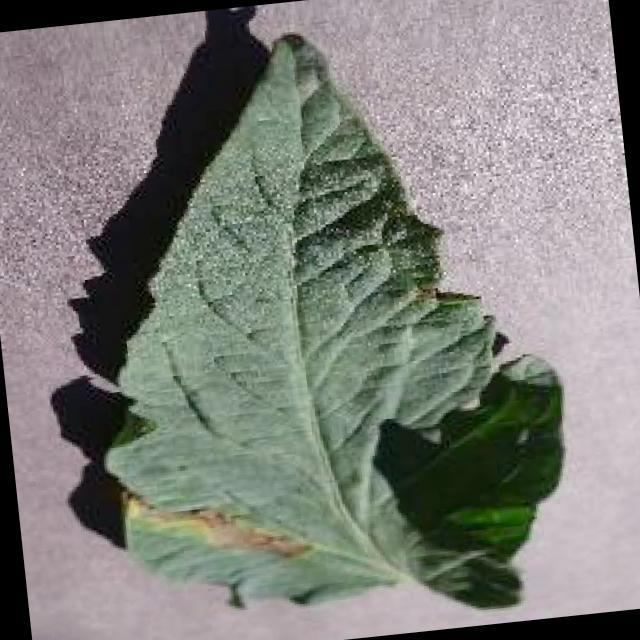Tomato Early blight leaf: (64, 5, 586, 640)
